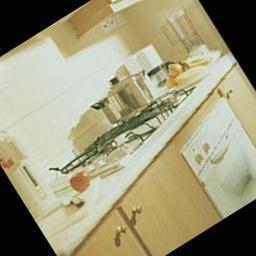Electrodomestico: (167, 96, 256, 219), (81, 80, 200, 170)
